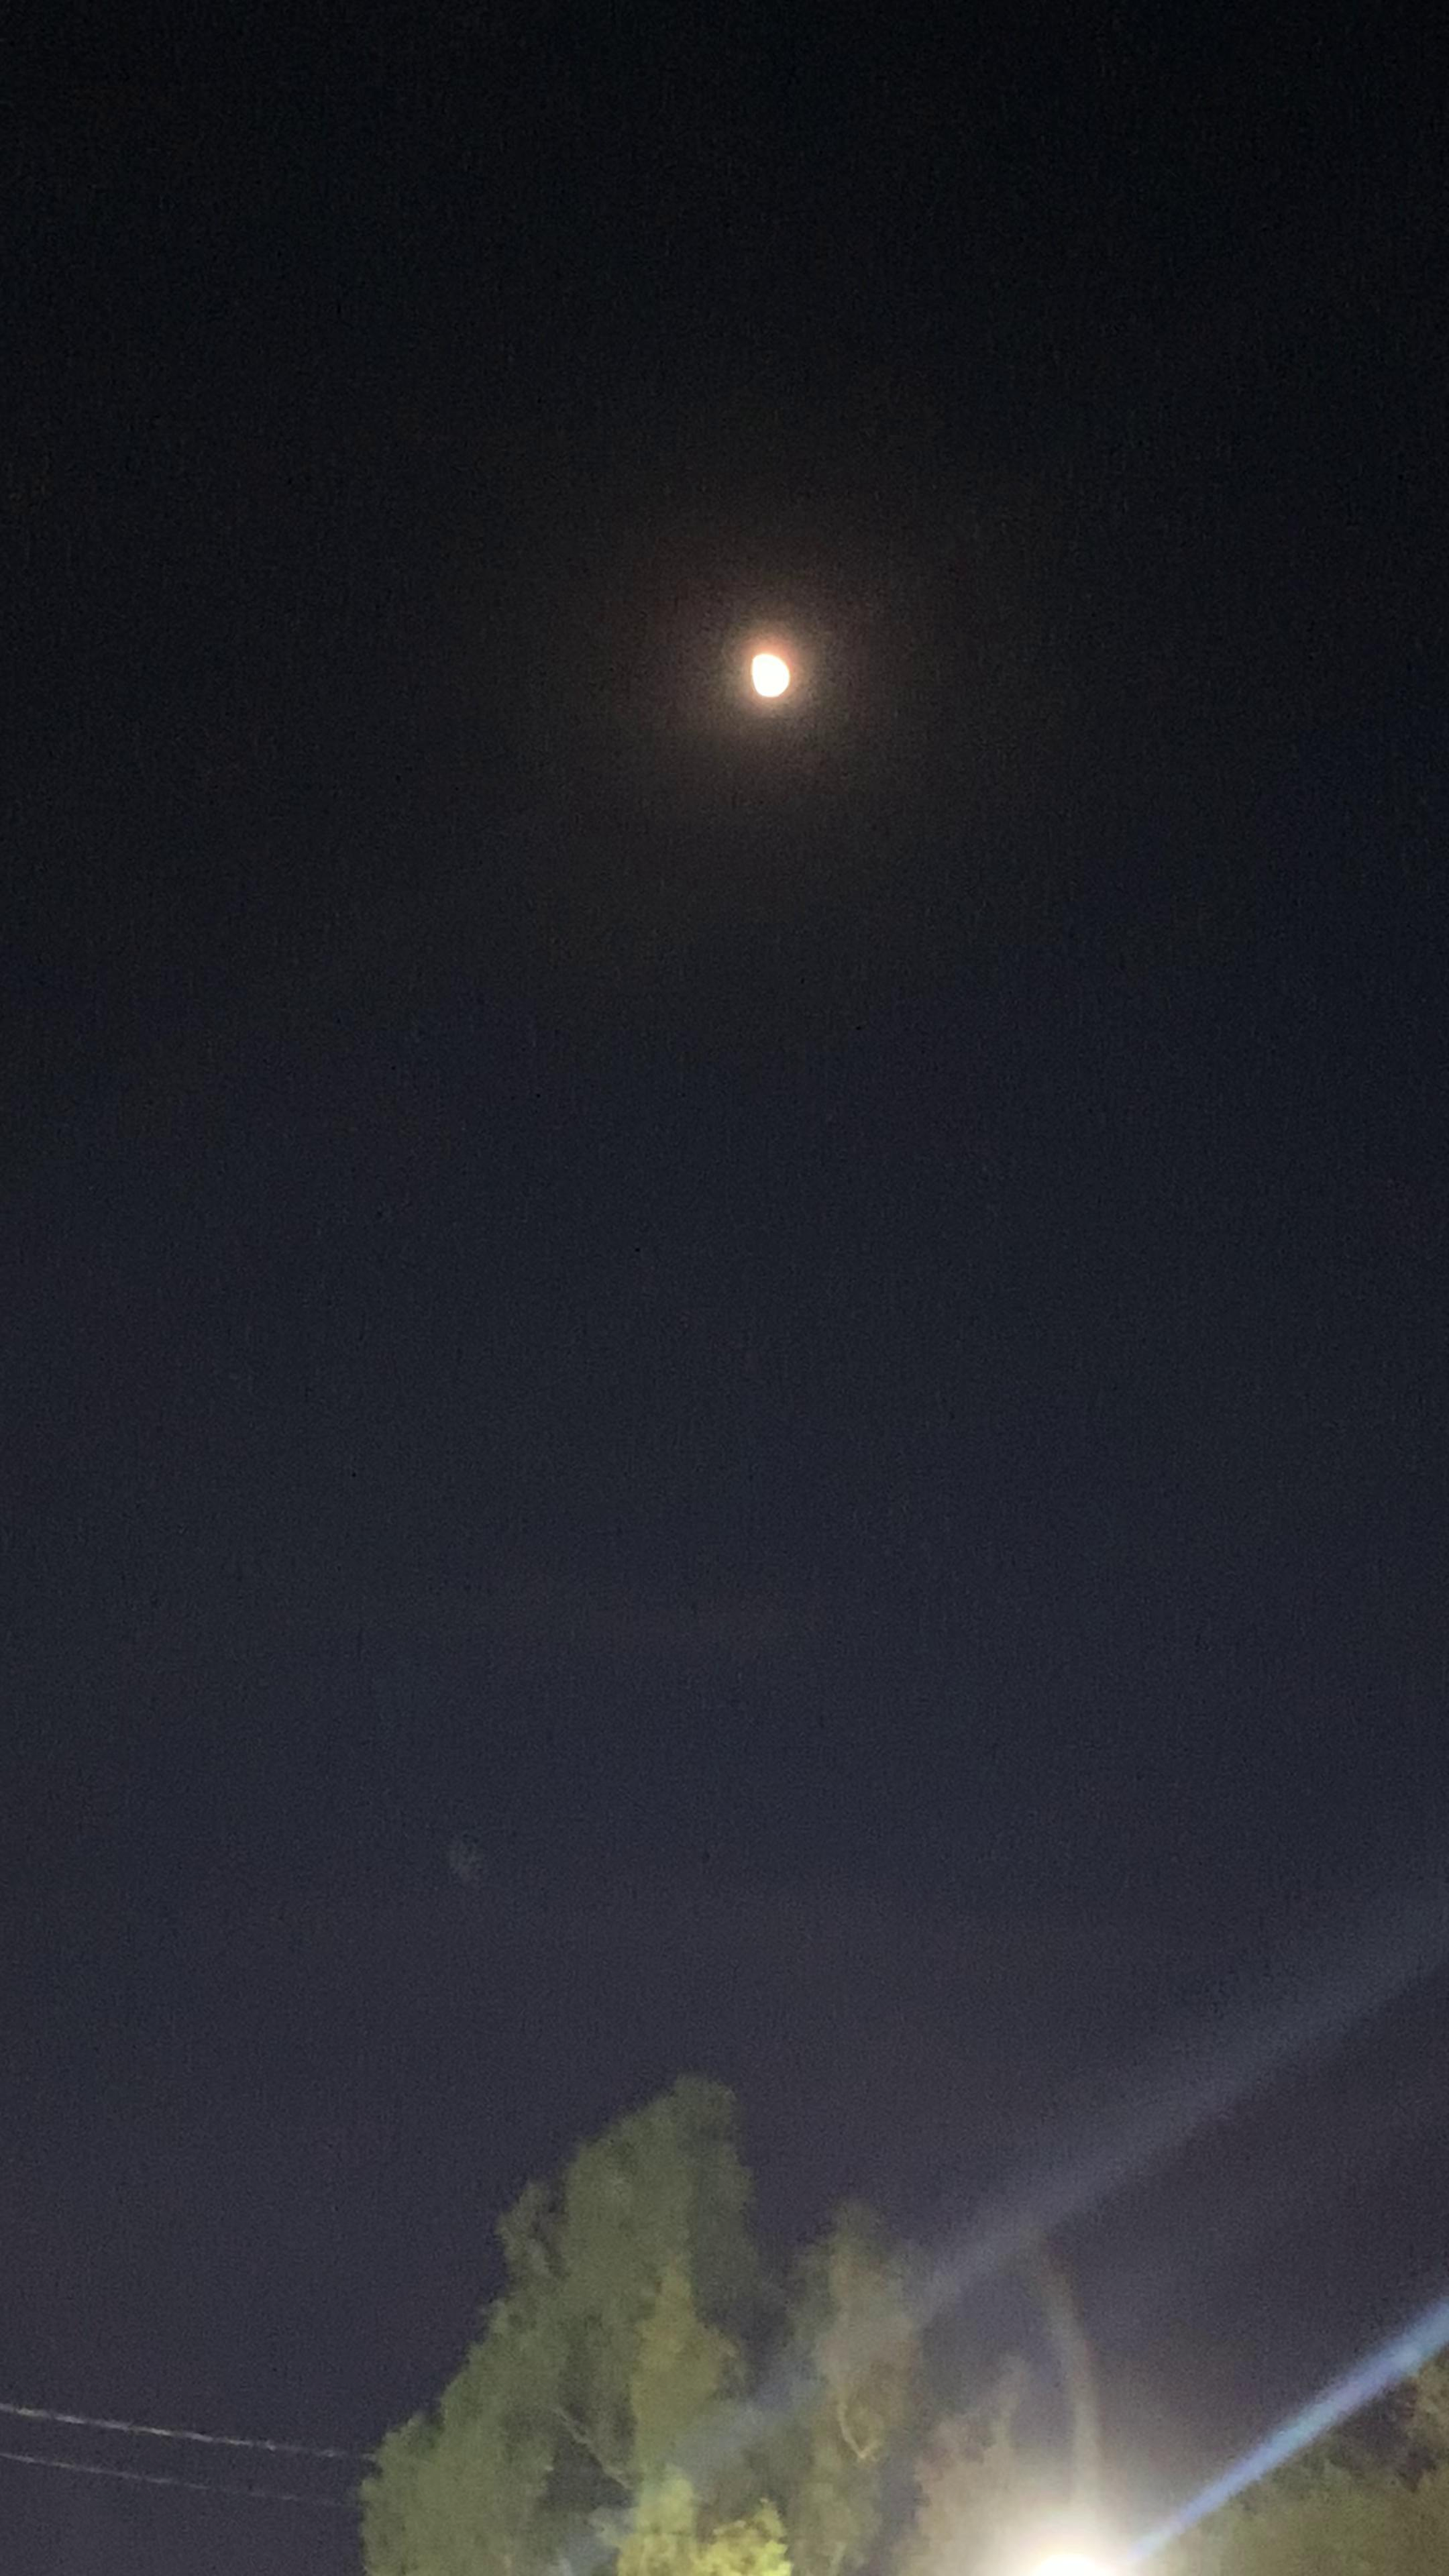moon: (708, 619, 835, 731)
